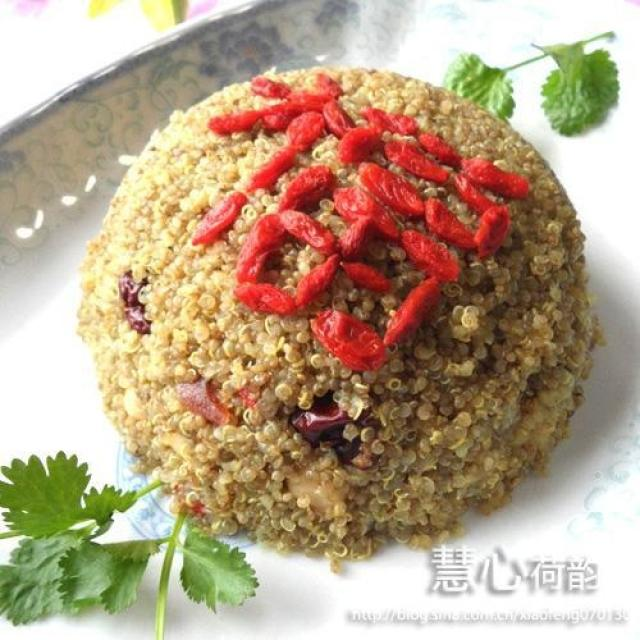米饭主食: (45, 35, 617, 581)
